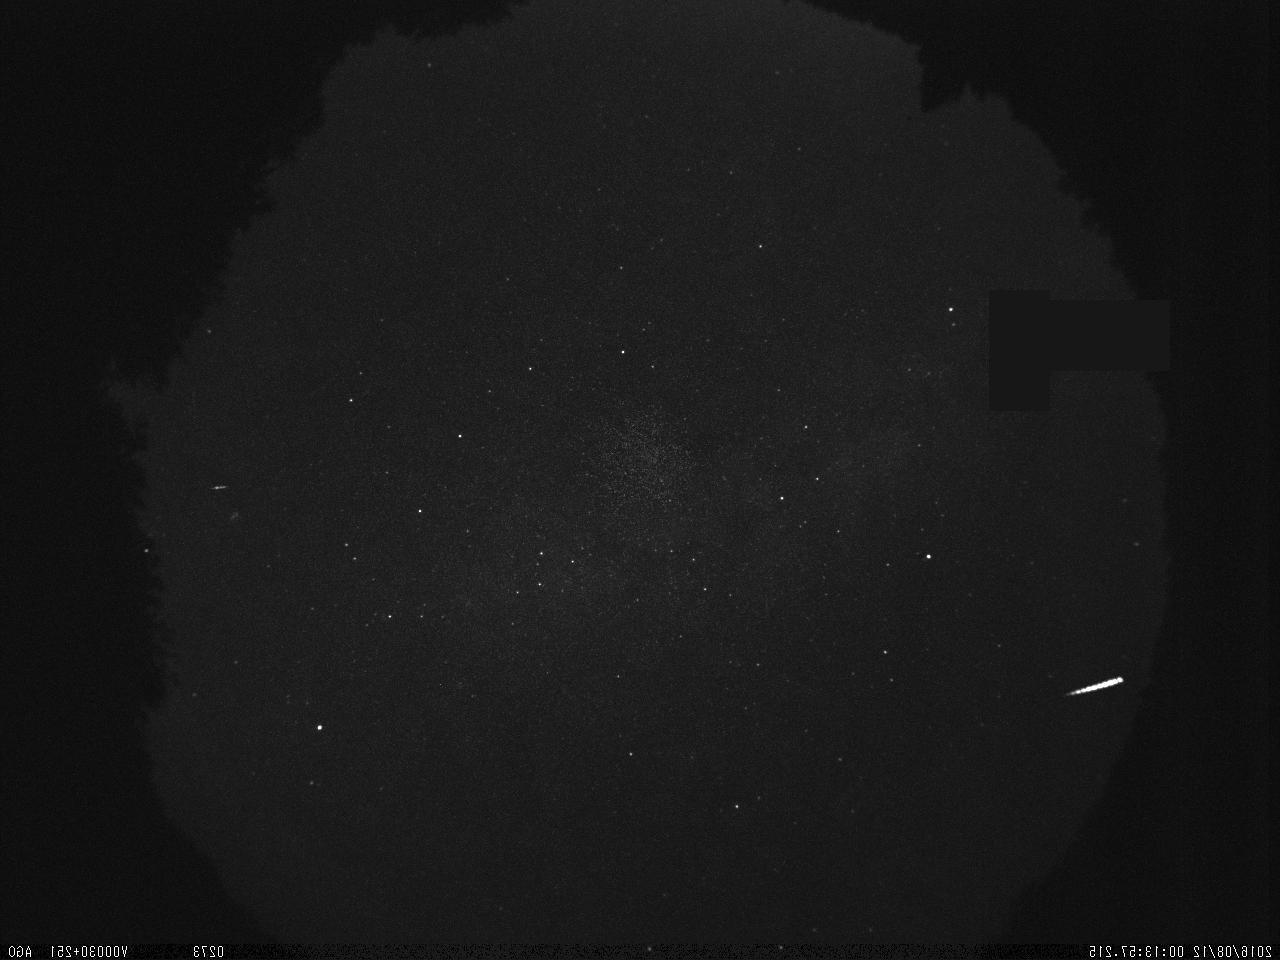meteor: (1038, 650, 1144, 712)
